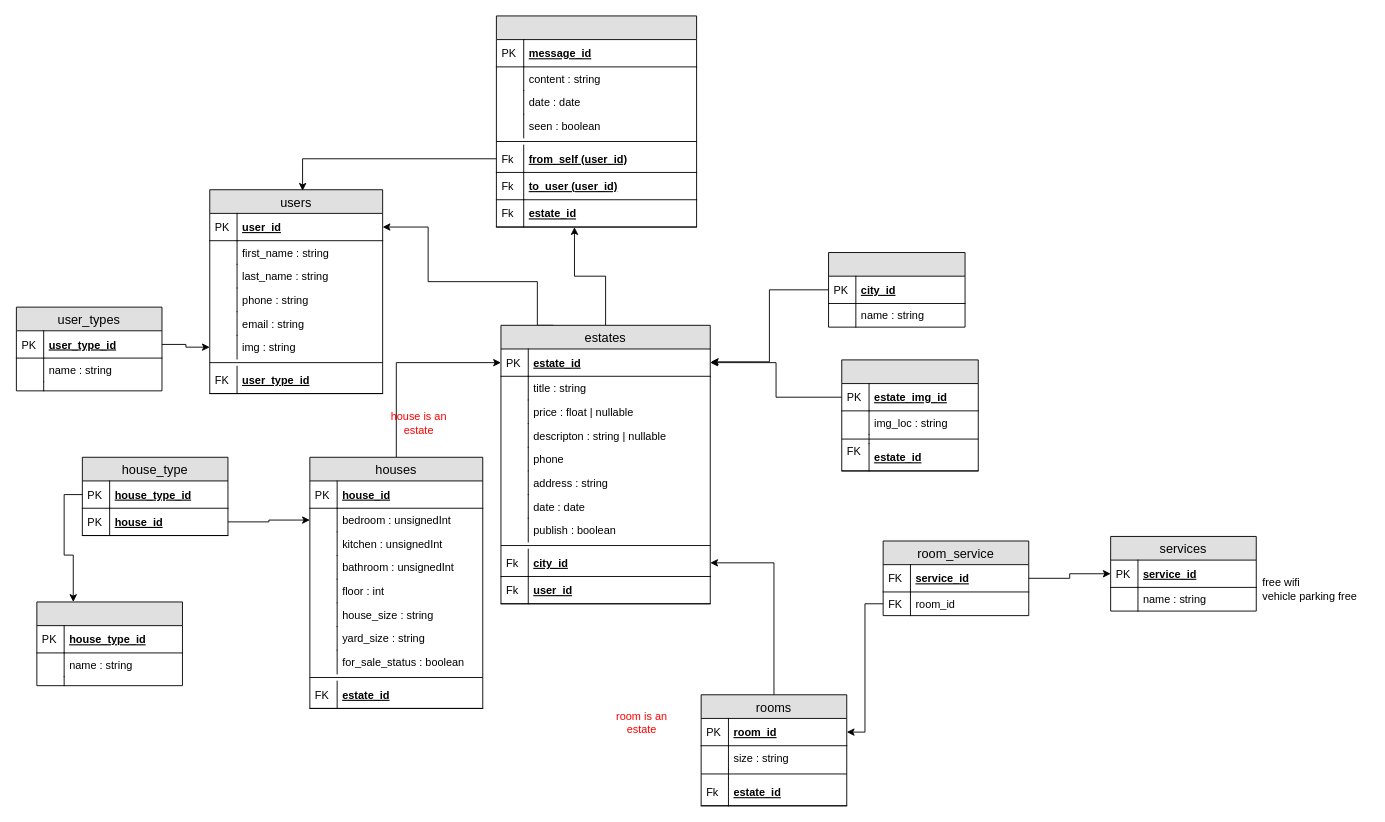
This 1385x822 diagram has some shape labels left out. Here are the shapes that lost their labels. From the top down, the box of each, then its label:
(495, 15, 697, 227): messages
(828, 252, 965, 327): cities
(841, 359, 978, 471): estate_imgs
(36, 601, 182, 686): types
